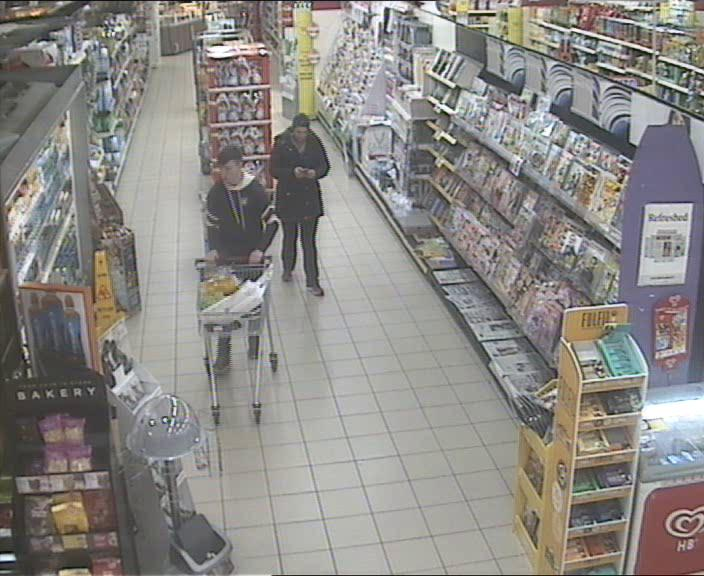filled-trolly: (192, 251, 279, 422)
person: (204, 146, 278, 373)
person-with-filled-basket-trolly: (192, 145, 282, 422)
